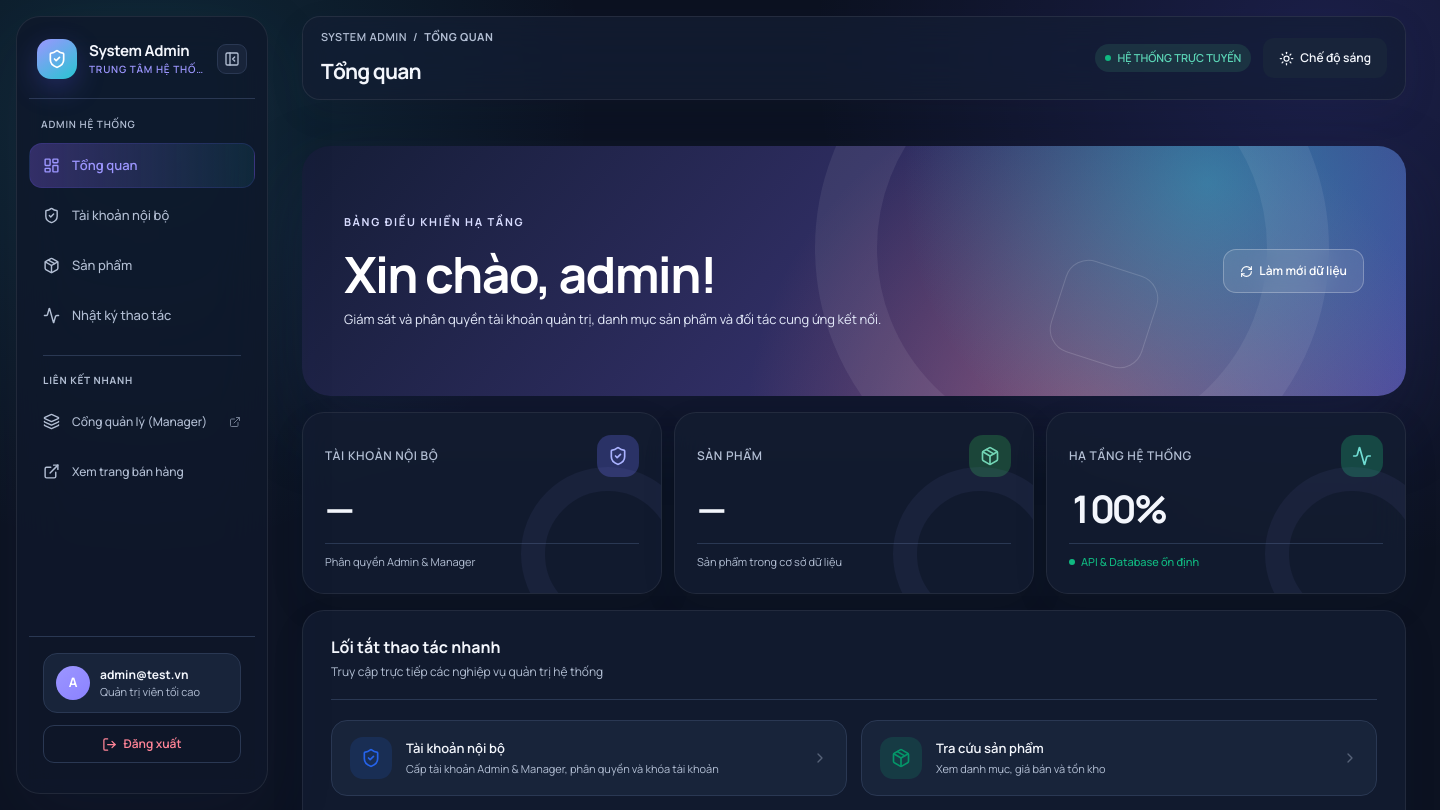
Scenario: keeps the sidebar usable when getItem fails
The width and height of the screenshot is (1440, 810).
Click the button named "Thu gọn thanh điều hướng" at (232, 59), box [217,44,247,74]
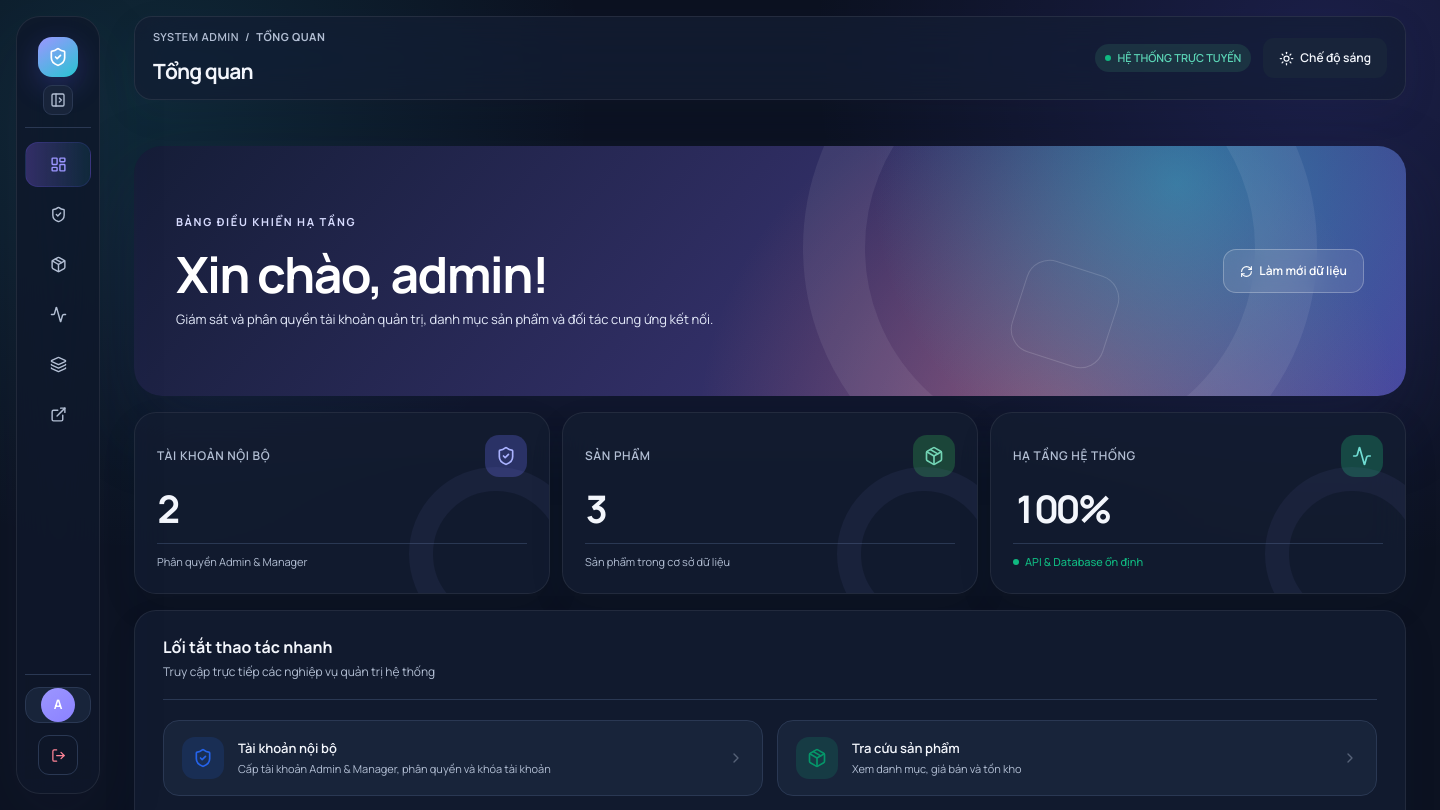
Check: the button named "Mở rộng thanh điều hướng" is collapsed
Click the button named "Mở rộng thanh điều hướng" at (58, 100), box [43,85,73,115]
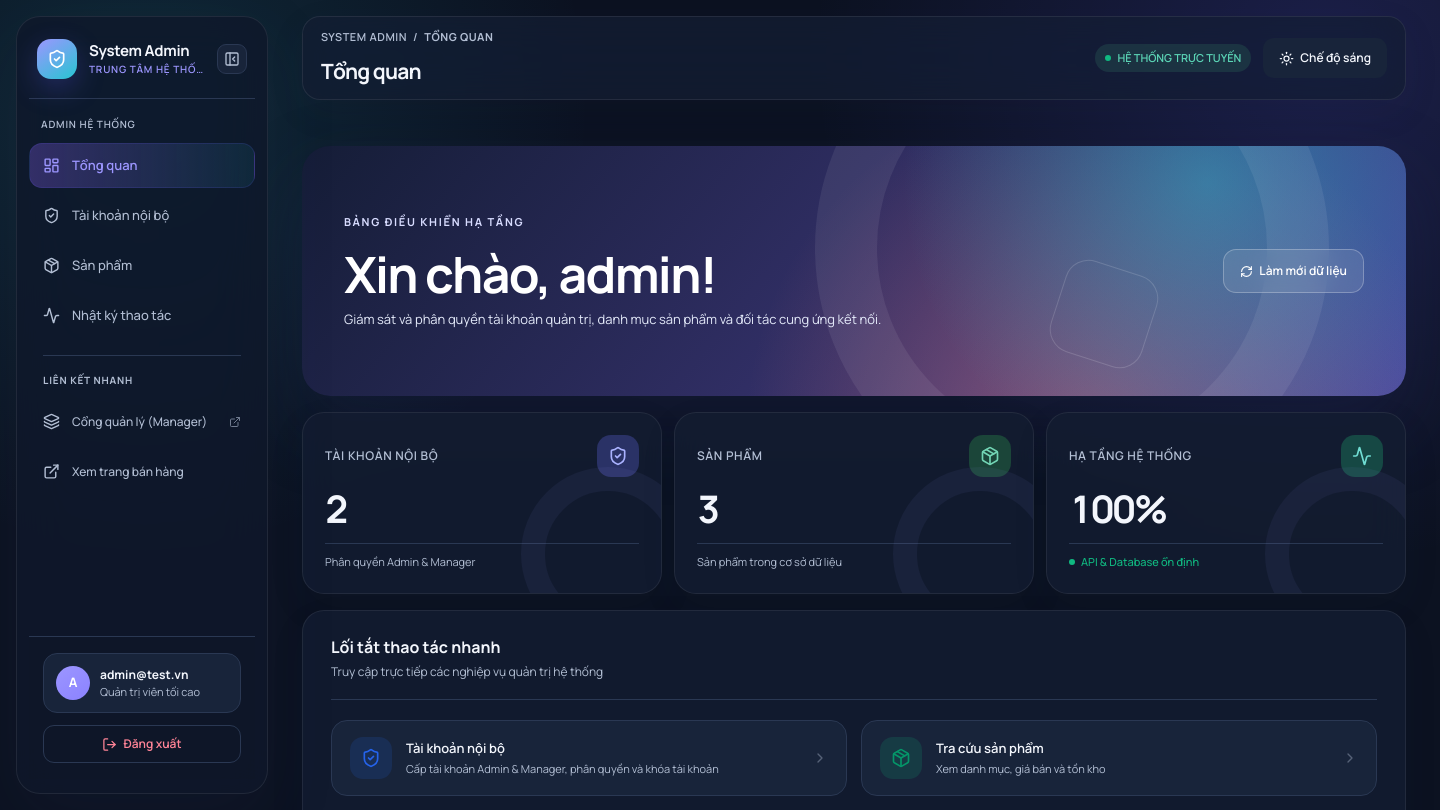
Check: the button named "Thu gọn thanh điều hướng" is expanded, box [217,44,247,74]
